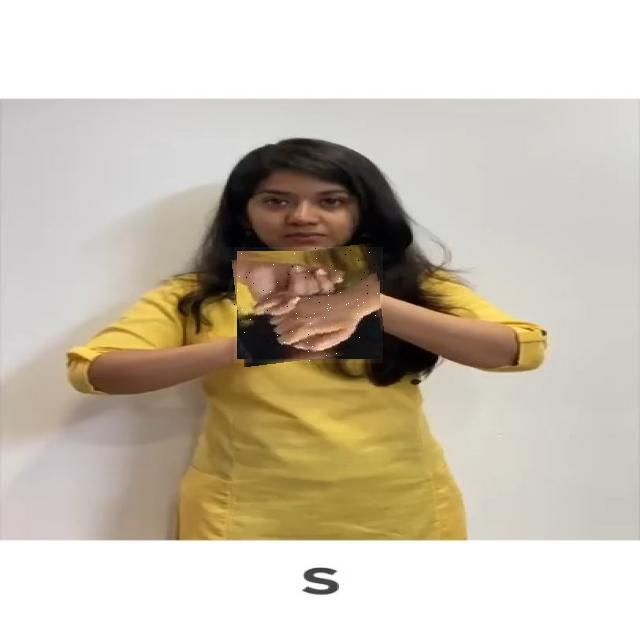S: (234, 247, 383, 363)
